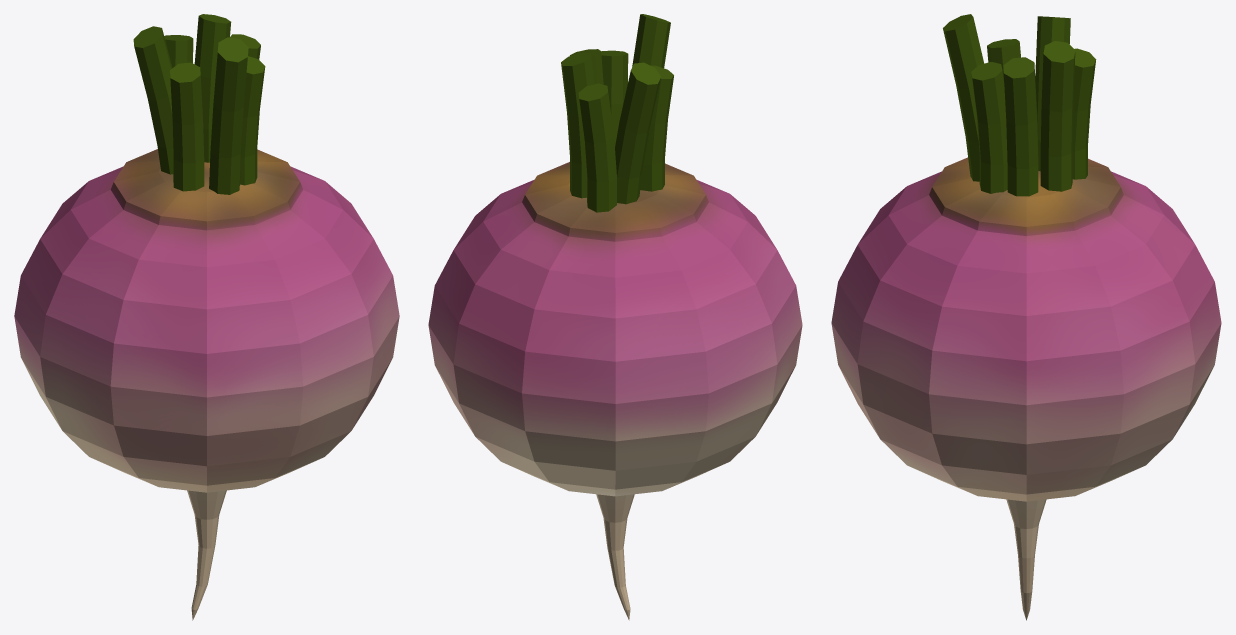
Rendered from turnip.obj.
3 views of the same model, side by side, from view 1: azimuth 30°, elevation 25°; view 2: azimuth 150°, elevation 25°; view 3: azimuth 270°, elevation 25° (orthographic). The views are drawn at different scales.
Bounding box in the file's own units: 2 × 3.44 × 2.
2 materials, 1 textured.
